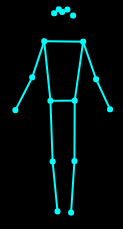mountain: (10, 4, 114, 219)
